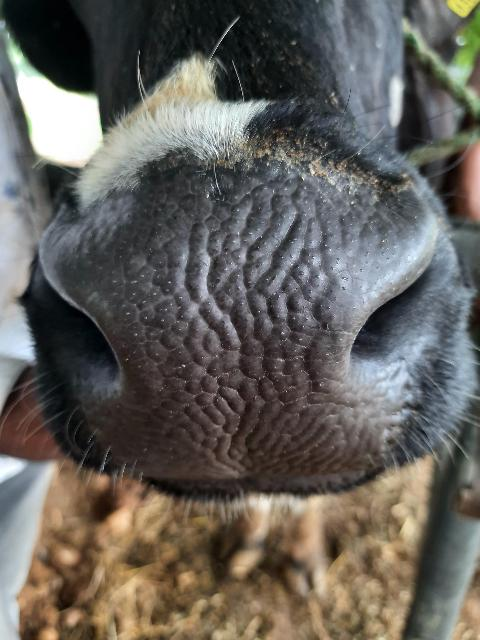Muzzle: (78, 172, 406, 510)
